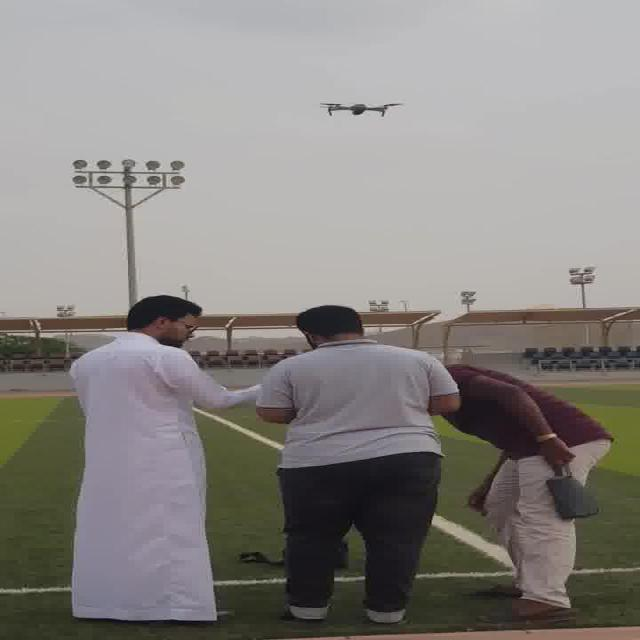drone: (308, 95, 412, 121)
